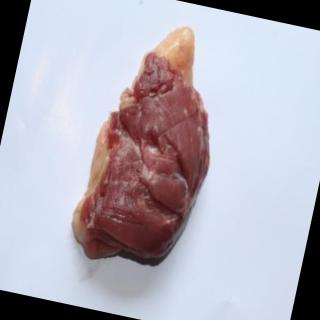Daging Sapi: (65, 9, 238, 282)
